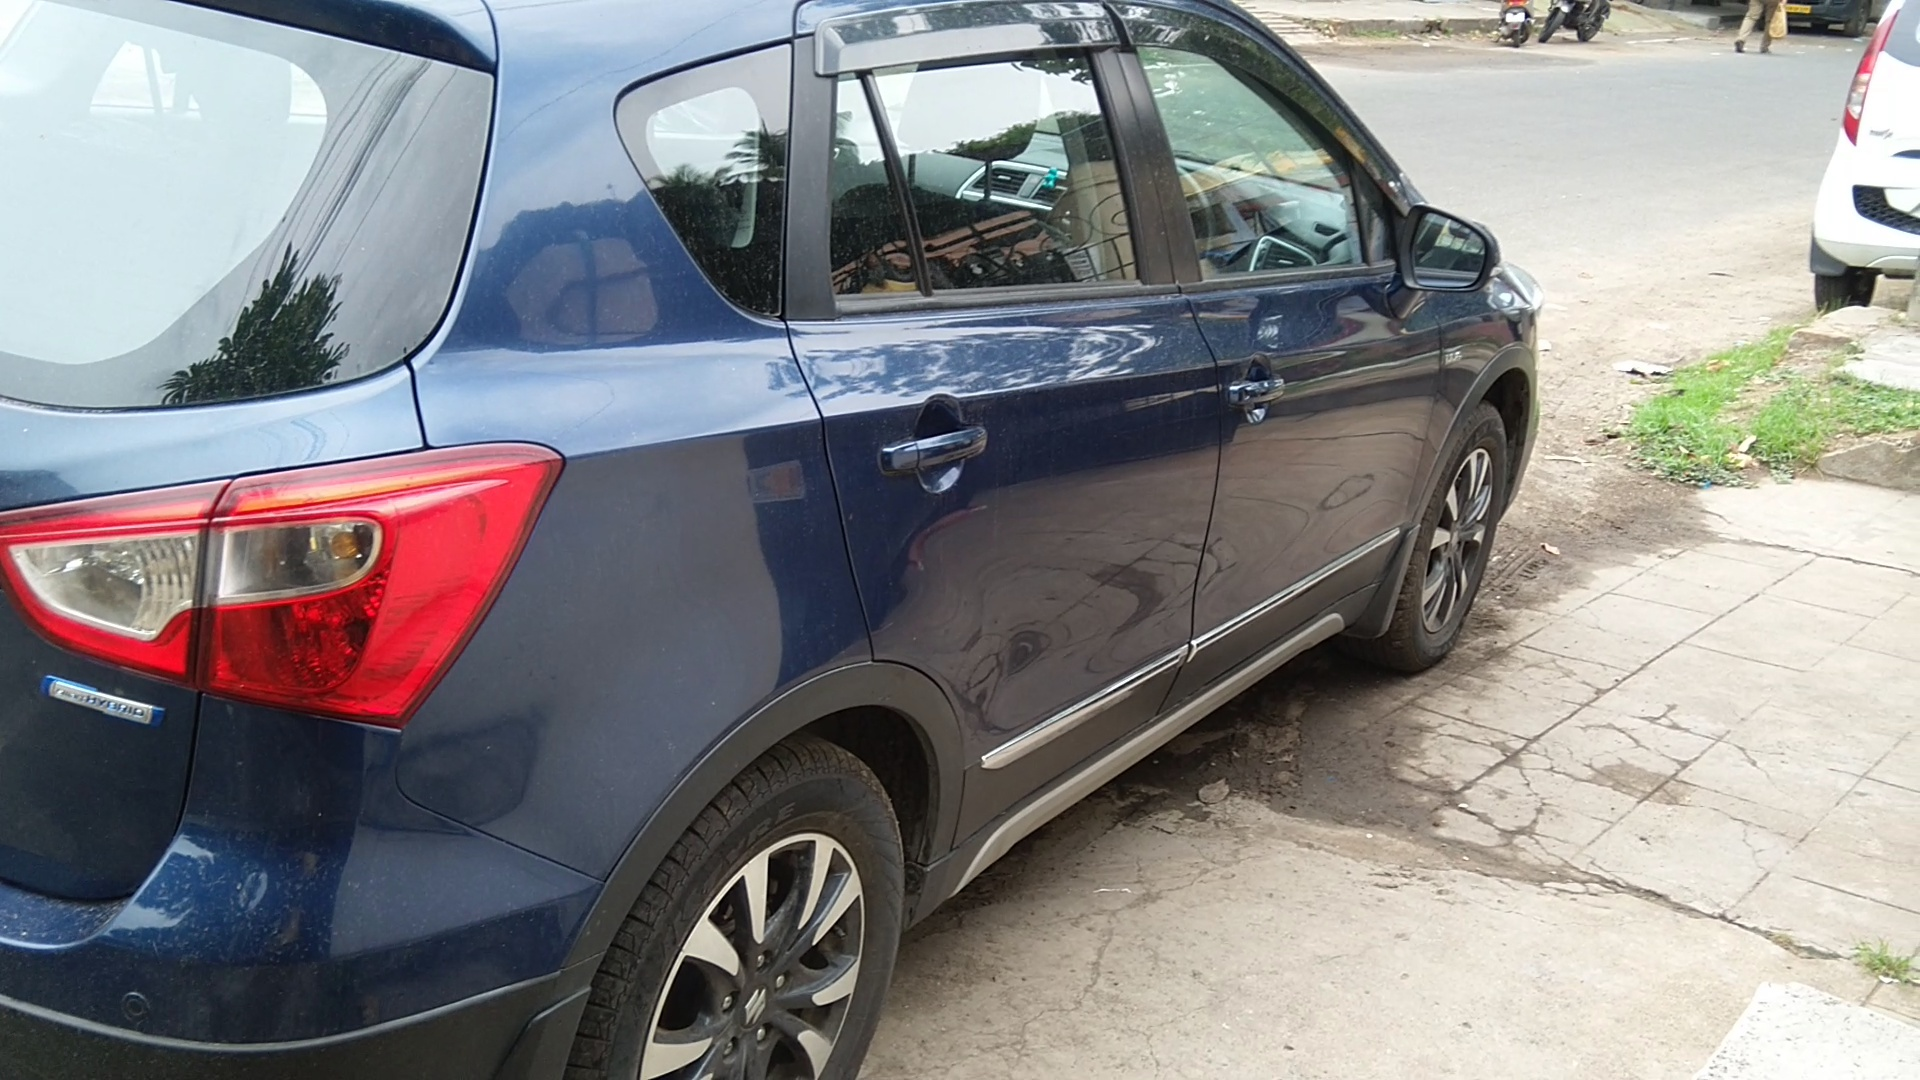alloy_wheel: (609, 765, 909, 1080), (1389, 410, 1524, 662)
shvs: (34, 667, 179, 735)
